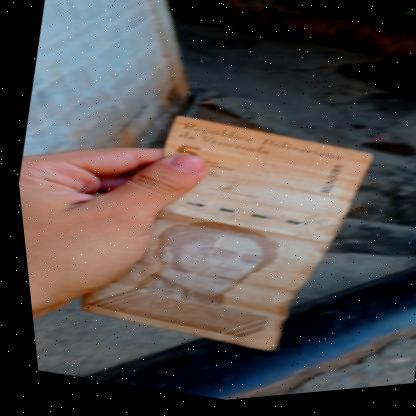vef_front: (54, 88, 389, 387)
